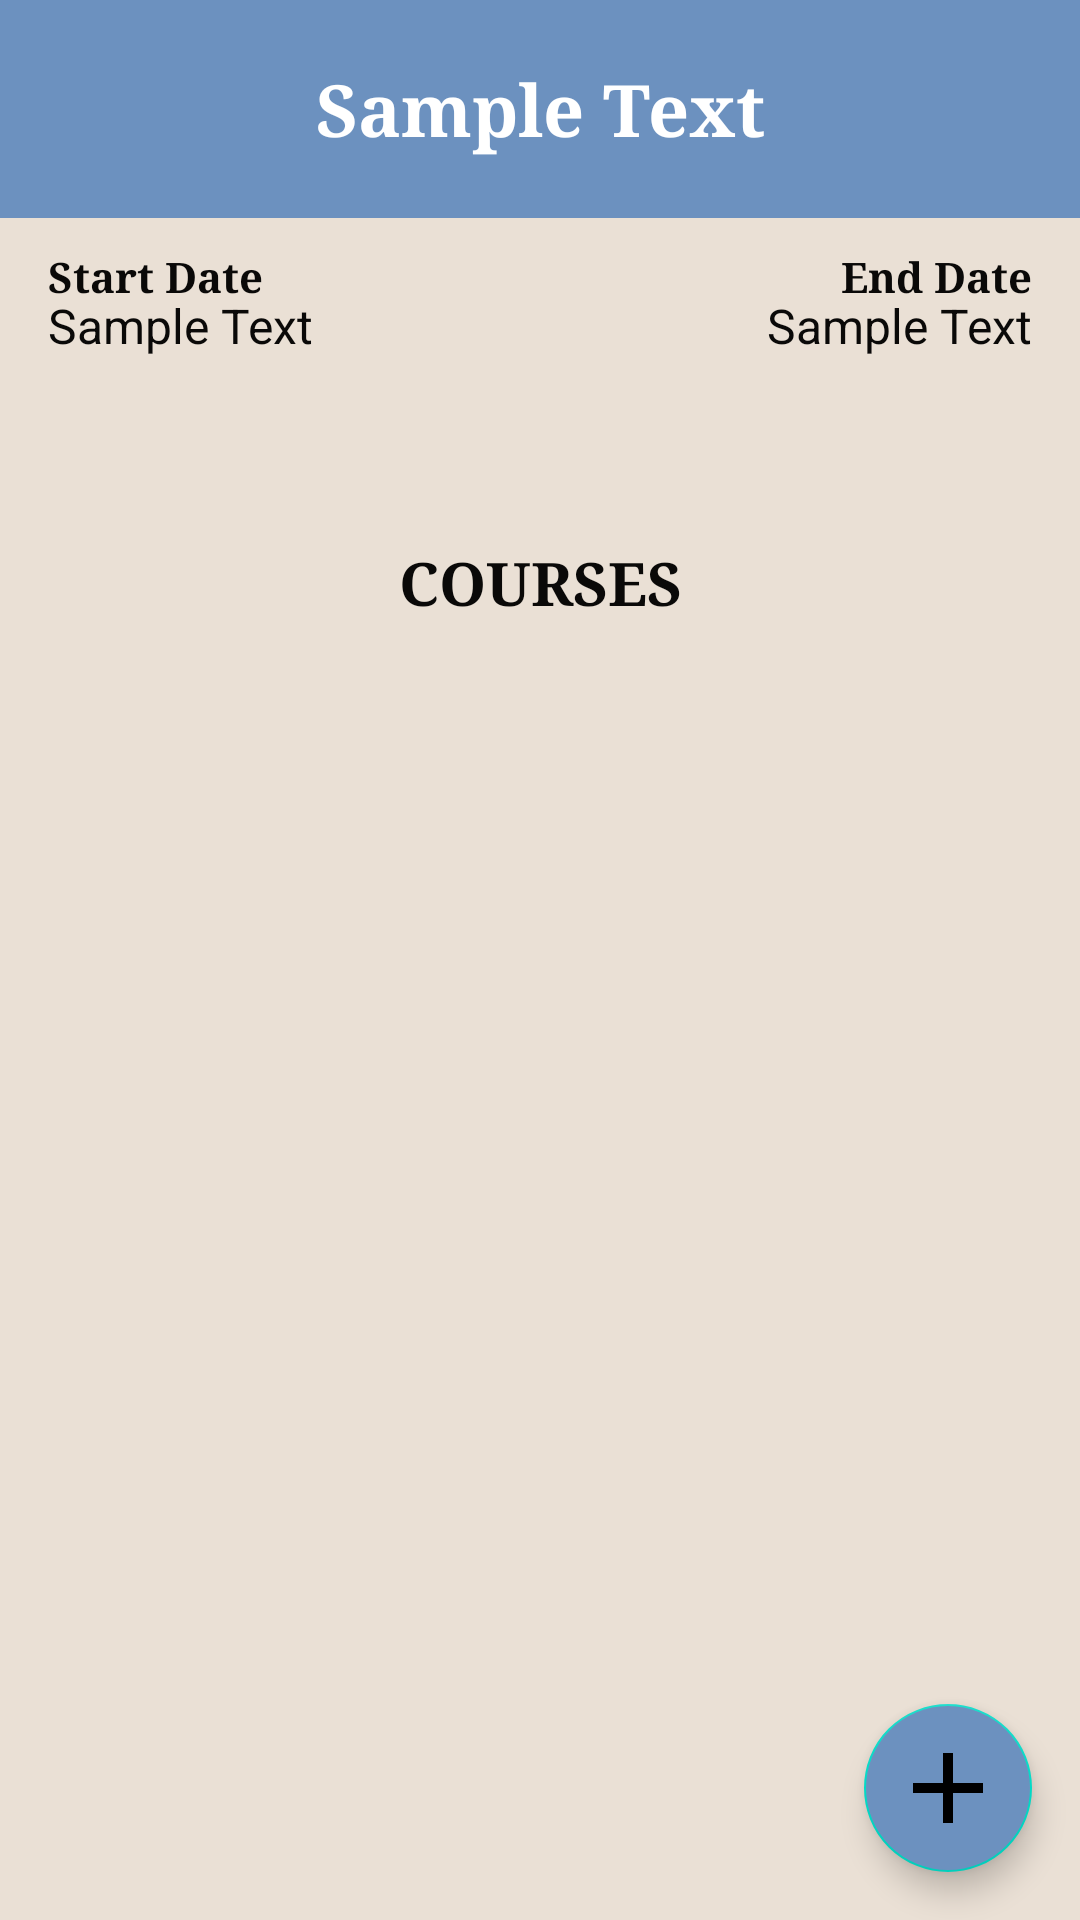

Icon bounding boxes for this 1080x1920 phone screenshot, format (x1, y1, x2, y2):
add course: (864, 1704, 1032, 1872)
